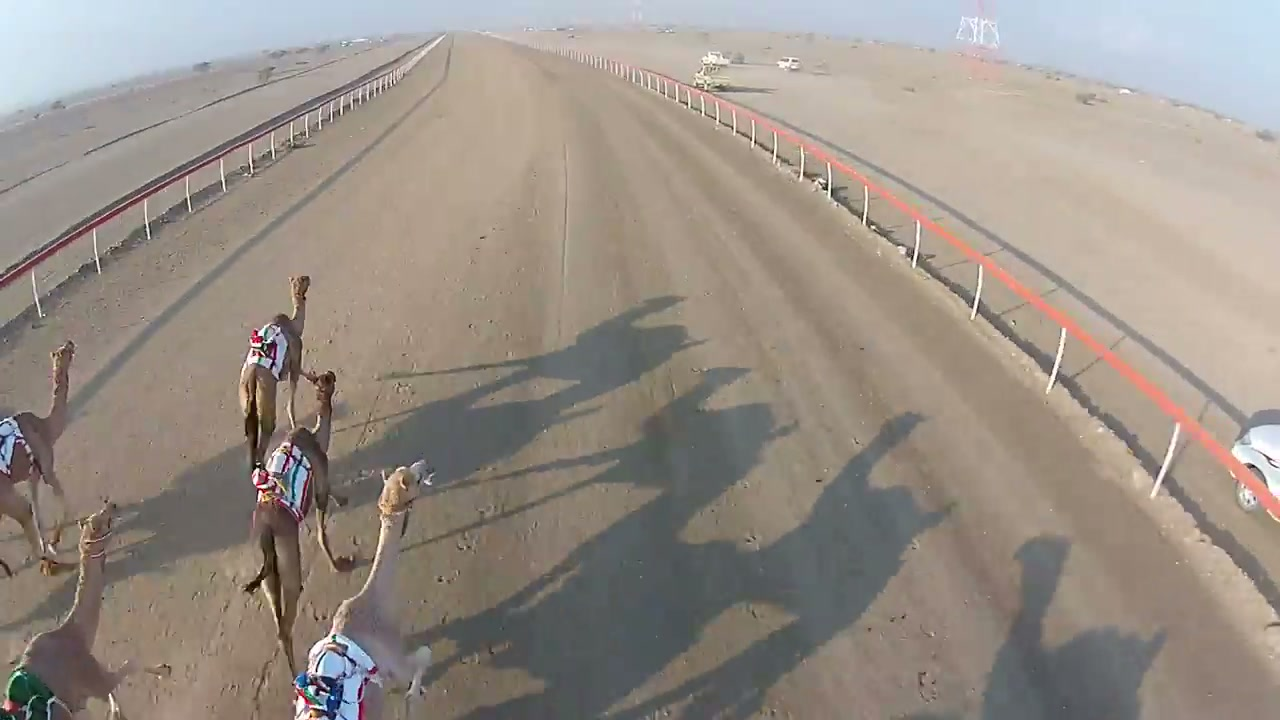animal_footprint: (415, 469, 508, 702)
